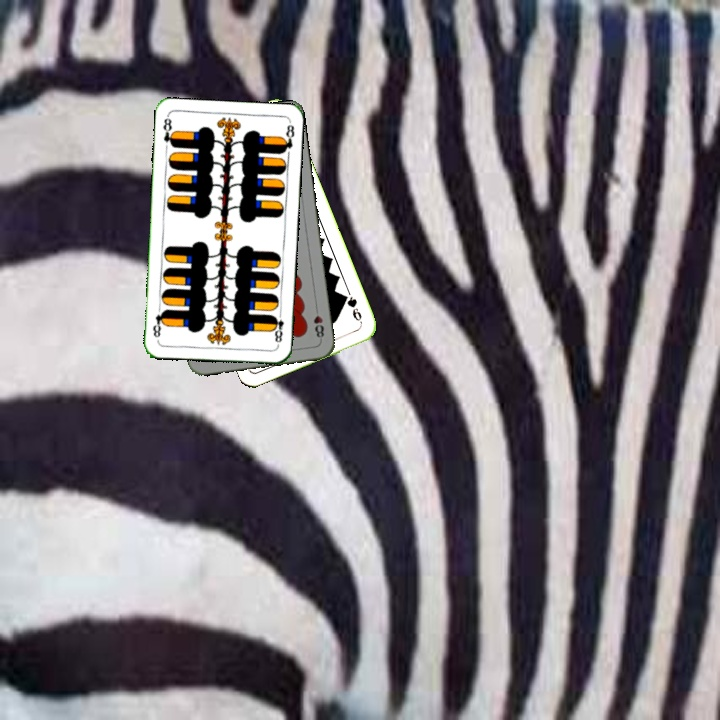E8: (268, 307, 286, 348), (159, 113, 177, 150)
G9: (340, 291, 365, 327)
H8: (310, 302, 326, 343)
